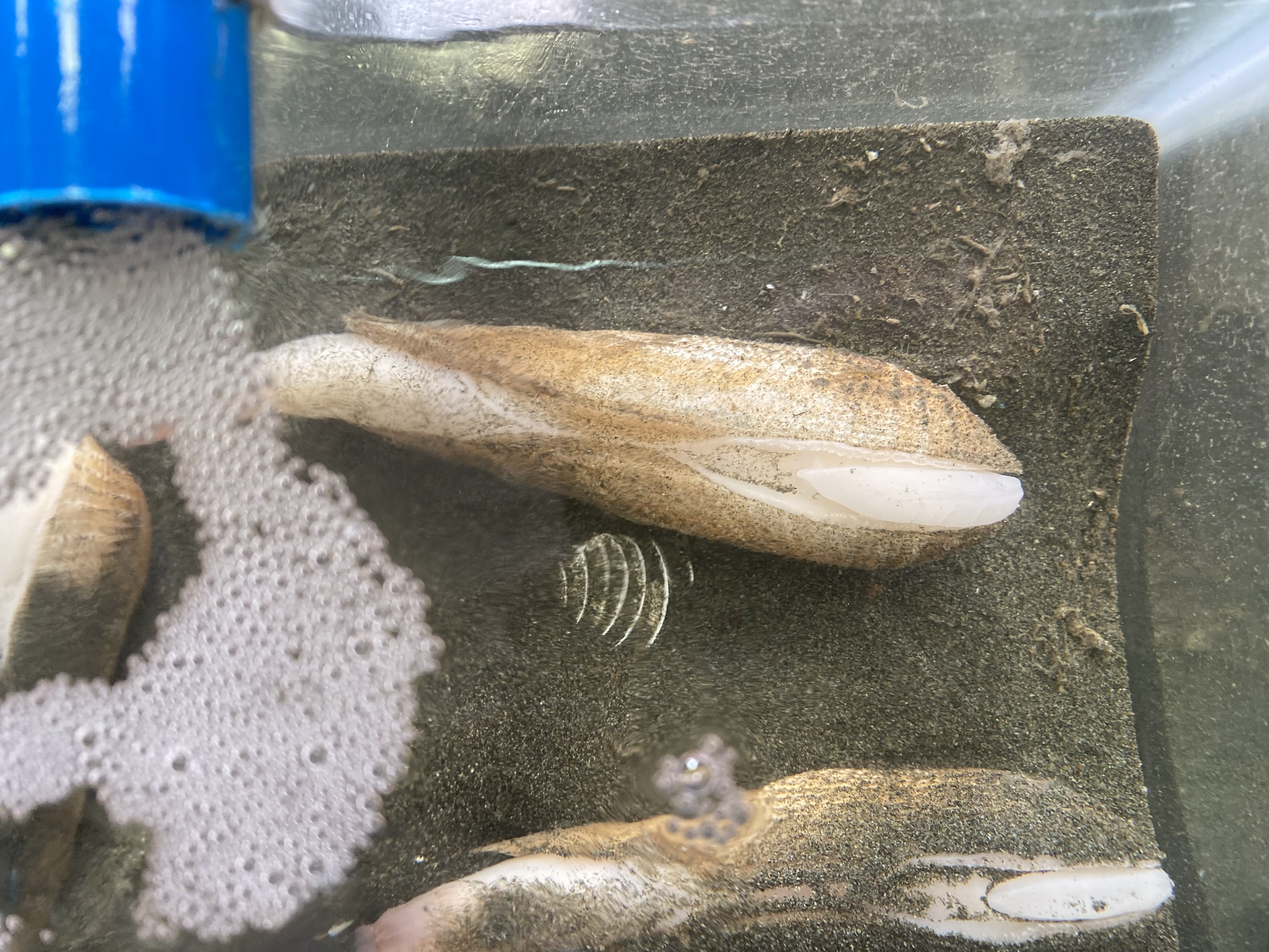Healthy: (265, 314, 1023, 568), (357, 744, 1172, 952)
